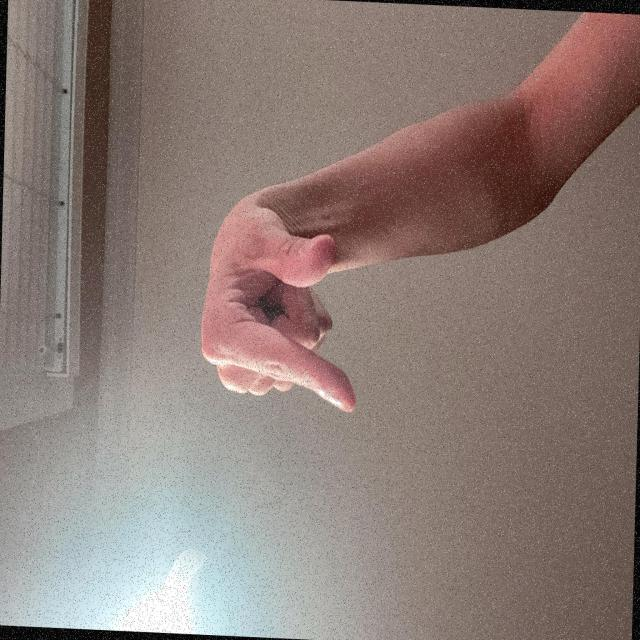Q: (164, 254, 338, 486)
